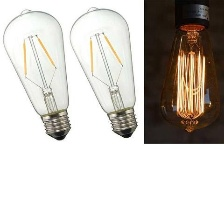light_bulb: (66, 3, 138, 142), (0, 6, 73, 142), (155, 12, 224, 135)
